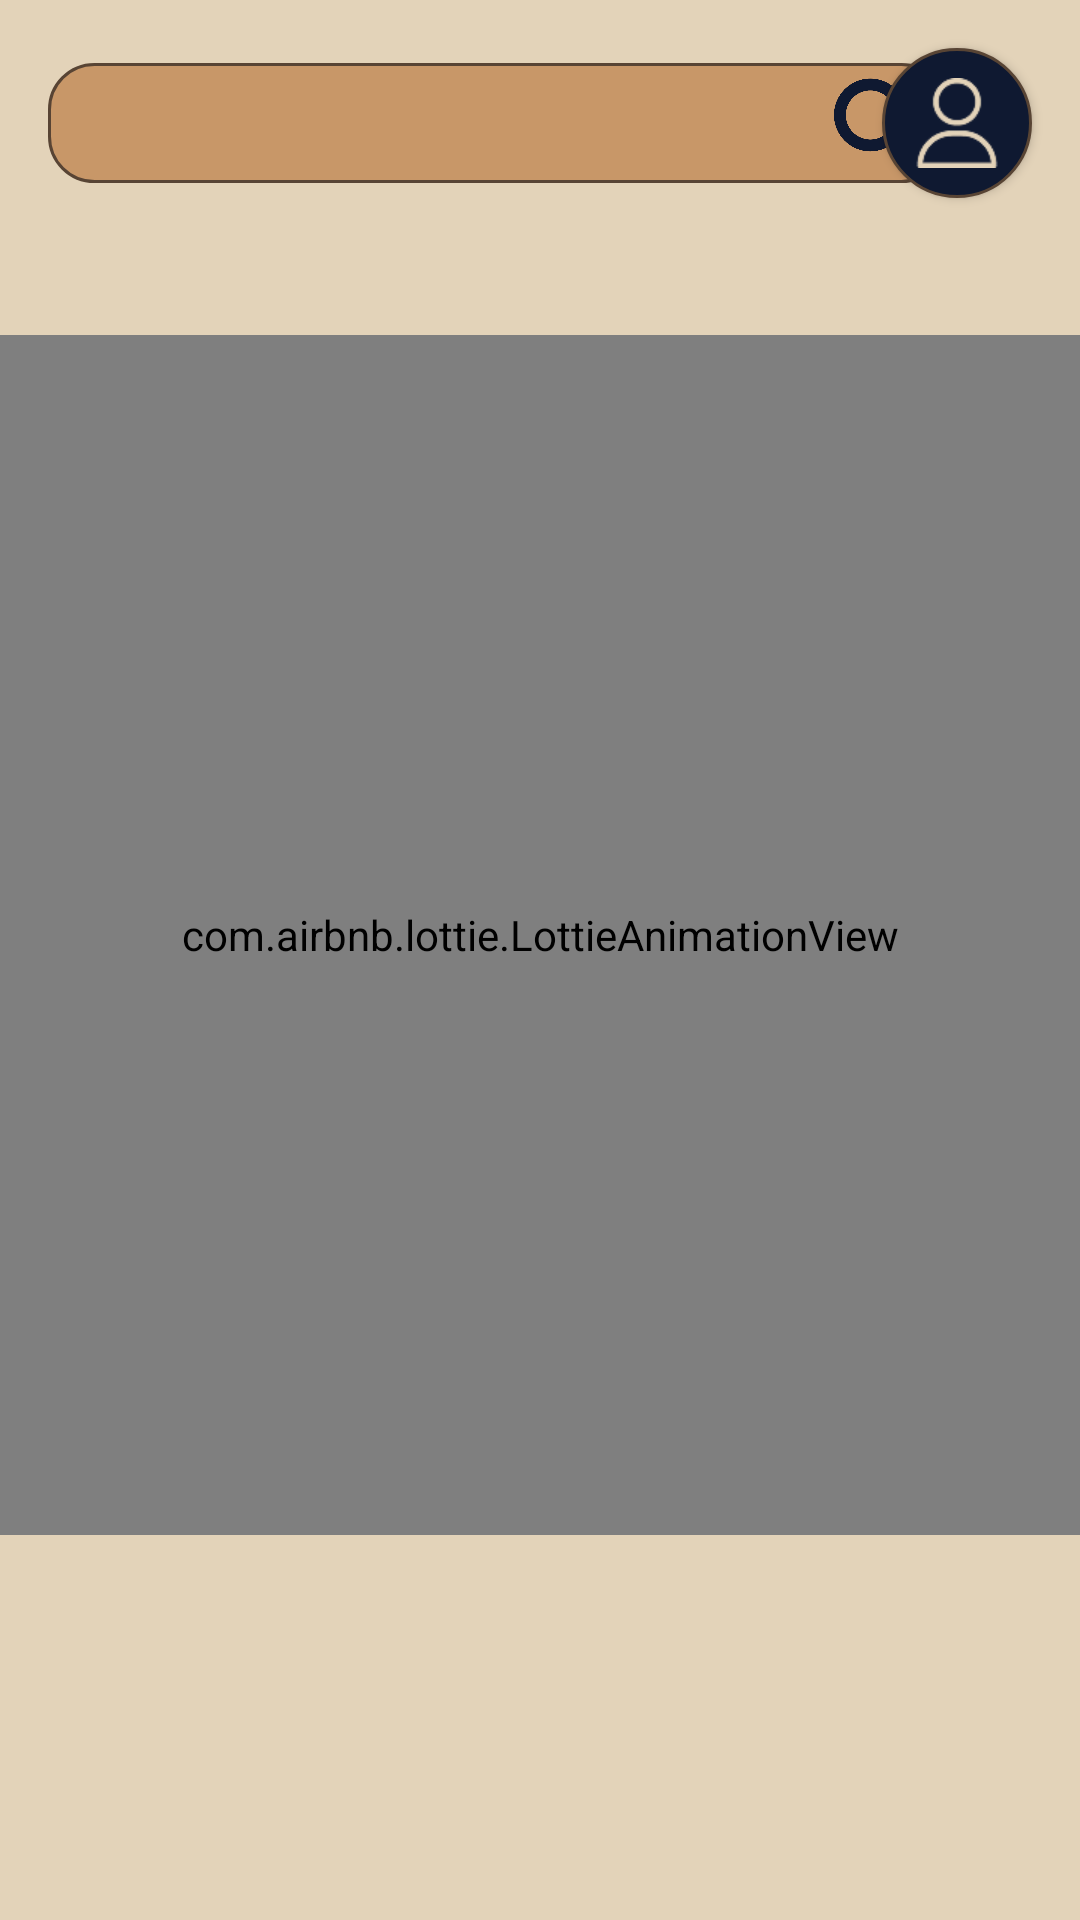

Where to tap for icons on this 1080 × 1920 app screen, as point (x, y):
user: point (957, 123)
